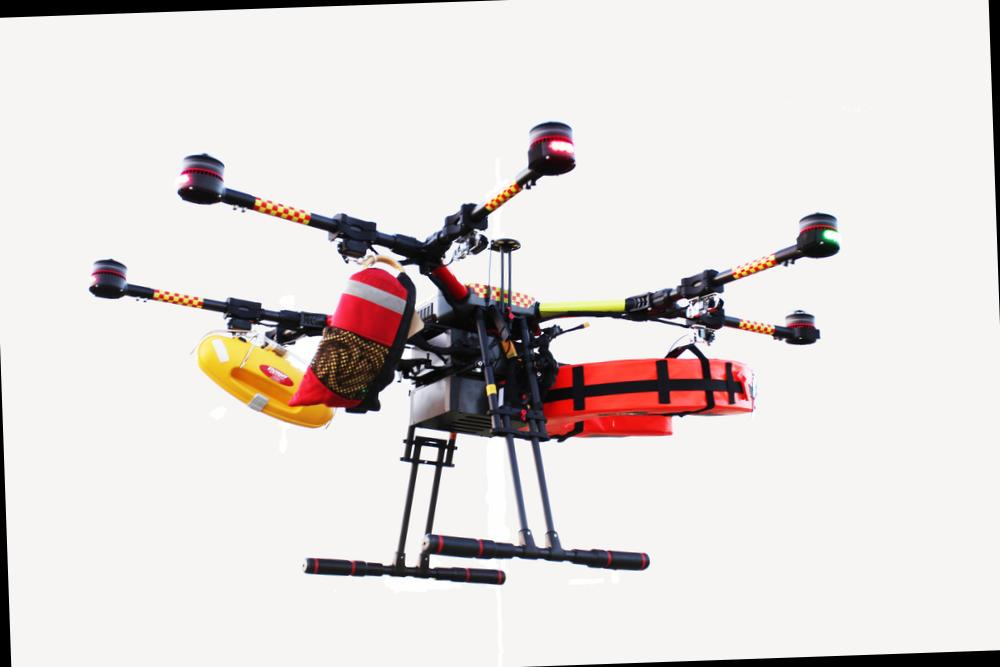drone: (42, 95, 872, 494)
